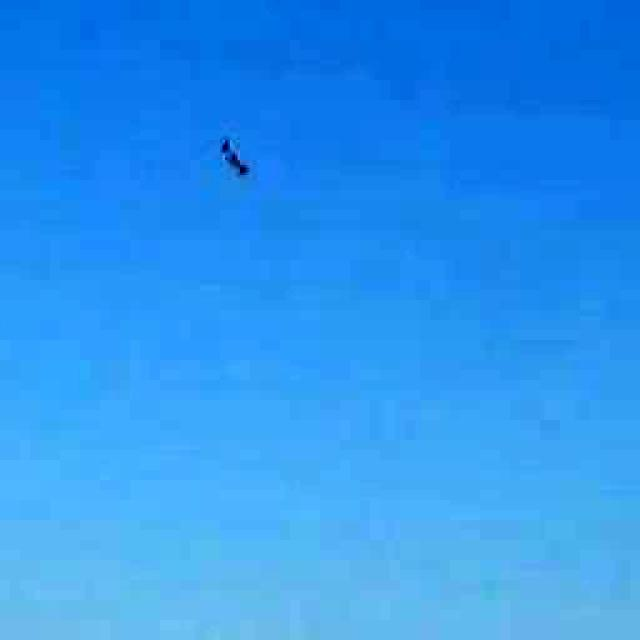bird: (202, 132, 262, 195)
